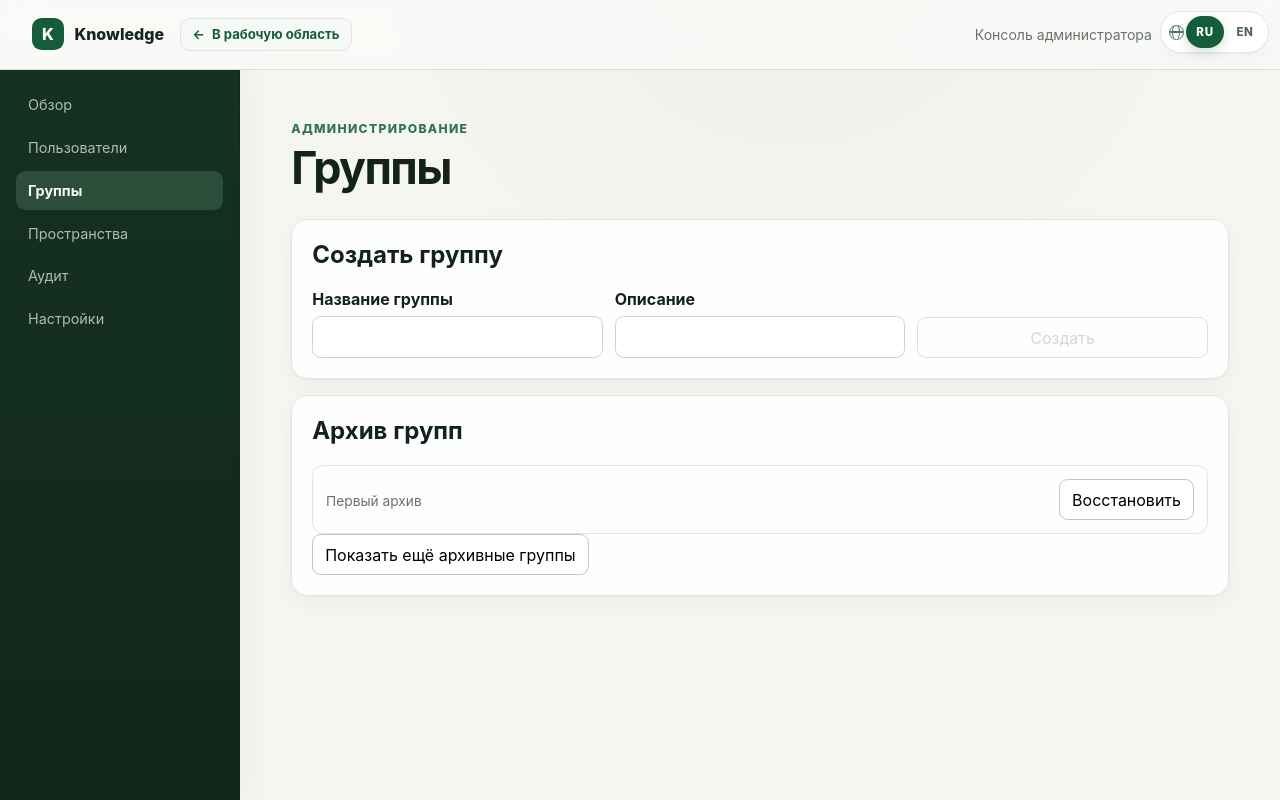
Test: groups administration › loads every archived group page using the returned cursor
Expected: the text "Первый архив" is shown, 326,493 -> 422,509
Click the button "Показать ещё архивные группы" at (450, 555), box 312,534 -> 589,575
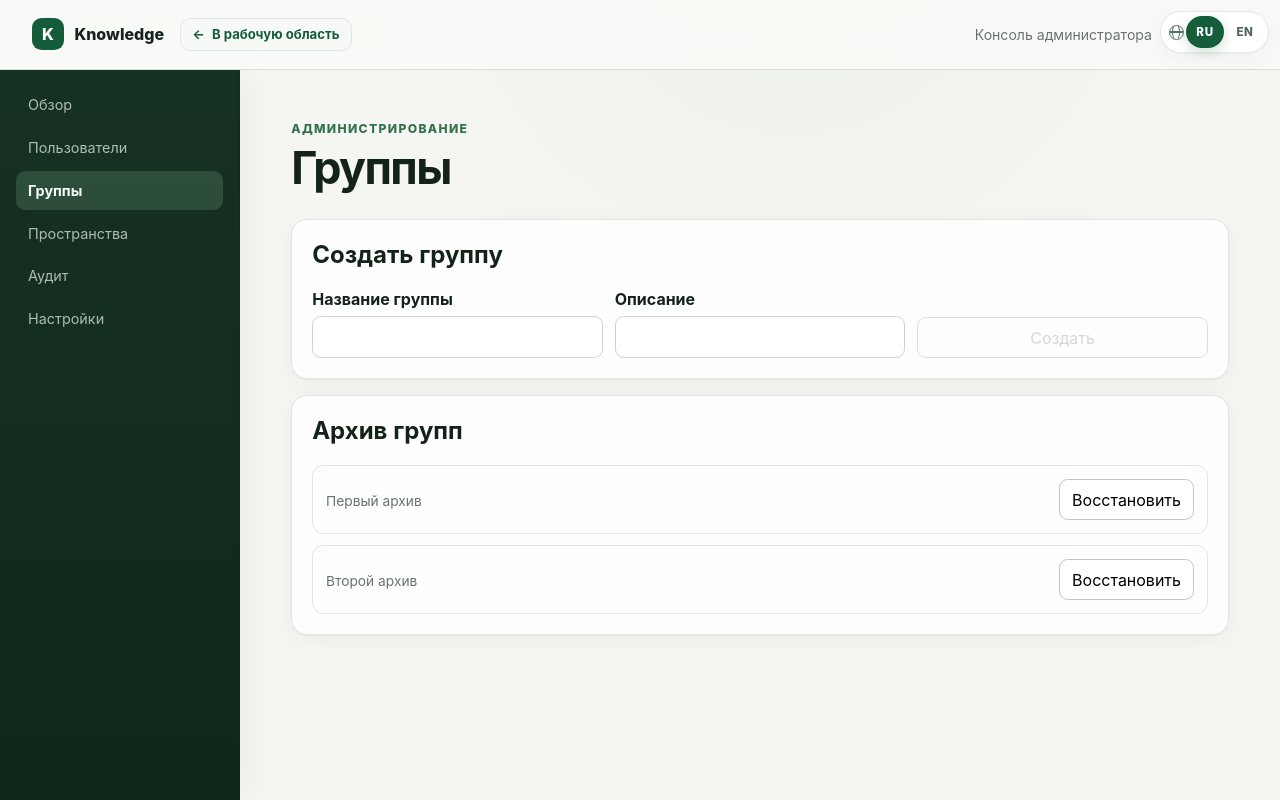
Now the text "Второй архив" is shown, box 326,573 -> 417,589
